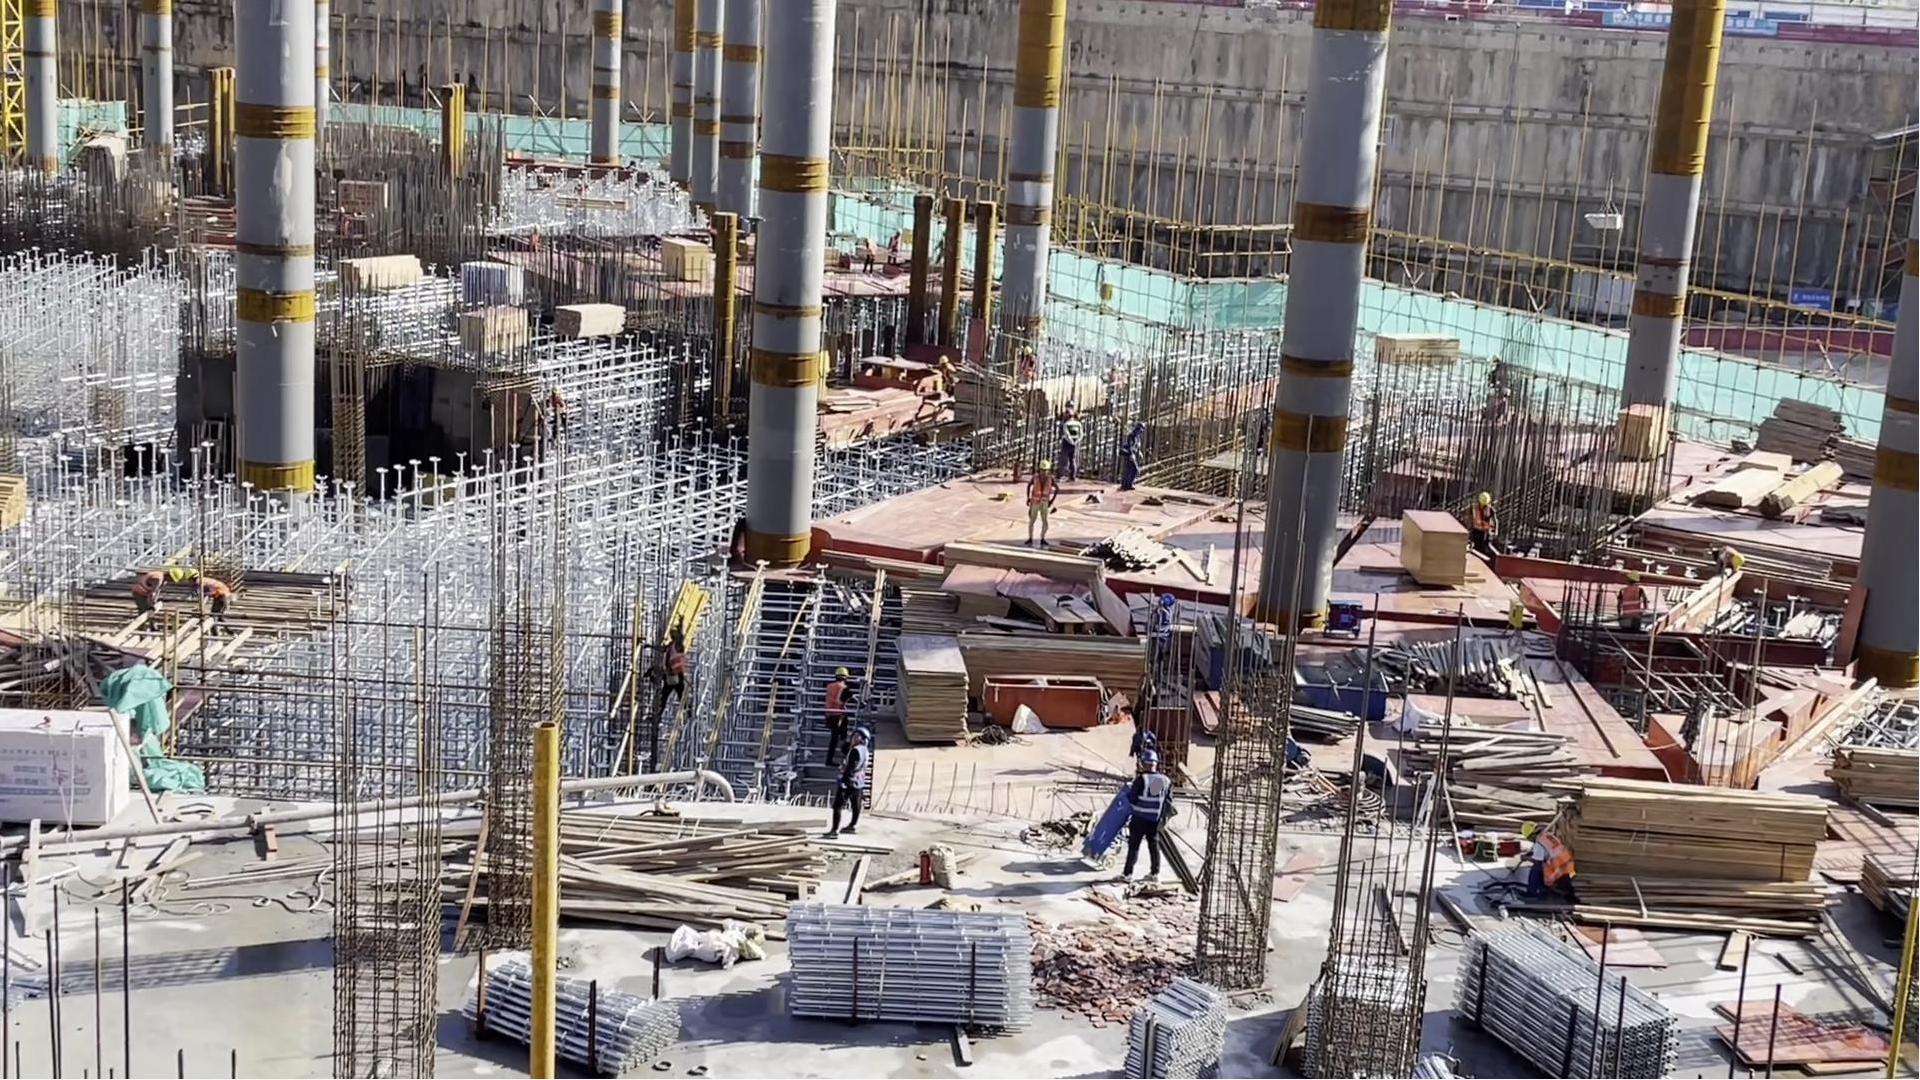board: (1717, 974, 1912, 1080), (891, 648, 969, 752), (1399, 507, 1470, 587), (444, 294, 529, 358), (938, 566, 1000, 633), (1620, 400, 1678, 461), (661, 233, 711, 287)
cutter: (1026, 574, 1111, 634), (854, 357, 944, 393)
ebox: (1507, 603, 1526, 647), (1095, 283, 1114, 319)
helmet: (1135, 749, 1164, 766), (1518, 820, 1540, 841), (1157, 593, 1177, 607), (855, 726, 871, 743), (1728, 553, 1743, 570), (181, 567, 195, 585), (1625, 568, 1640, 584), (832, 666, 851, 679), (169, 567, 185, 582), (1038, 458, 1053, 470), (1479, 492, 1491, 504), (1063, 408, 1076, 418), (1137, 421, 1146, 429)
hopper: (1290, 653, 1391, 716)
person: (1122, 742, 1179, 883), (640, 618, 694, 750), (1515, 804, 1580, 907), (831, 726, 868, 833), (181, 566, 239, 629), (125, 565, 182, 622), (1146, 588, 1180, 683), (1023, 460, 1058, 551), (821, 662, 862, 727), (1613, 567, 1646, 640), (1116, 421, 1144, 494), (1059, 400, 1086, 476), (1470, 491, 1498, 564), (1710, 544, 1746, 577), (884, 226, 903, 270), (863, 236, 882, 279), (1167, 333, 1191, 369), (940, 355, 957, 400), (1020, 344, 1037, 386), (525, 226, 543, 260)
scaffold: (1452, 882, 1670, 1080), (784, 910, 1029, 1045), (459, 958, 691, 1080), (1296, 938, 1433, 1080), (1112, 975, 1232, 1080)
vest: (1538, 834, 1574, 888), (1137, 768, 1167, 828), (840, 747, 867, 788), (131, 571, 164, 601), (822, 684, 845, 724), (1148, 606, 1174, 643), (198, 579, 232, 605), (1618, 585, 1643, 618), (661, 641, 682, 679), (1030, 474, 1052, 508), (1470, 505, 1494, 534), (1124, 431, 1143, 464), (1062, 419, 1085, 446)
wood: (1567, 775, 1835, 933), (551, 817, 818, 937), (1421, 716, 1585, 830), (968, 630, 1150, 693), (1076, 522, 1225, 580), (1821, 748, 1920, 807), (327, 245, 430, 292), (1370, 329, 1465, 370), (553, 294, 629, 343), (1, 475, 29, 530)
